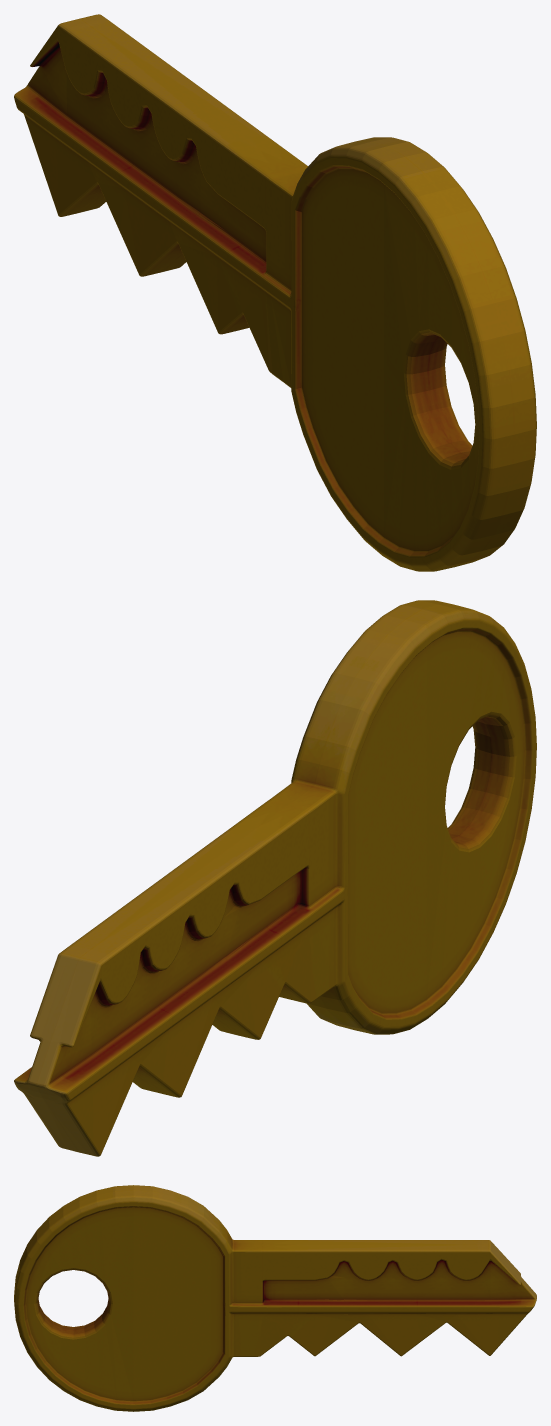
File: Key.glb
The picture shows the model from 3 angles, top to bottom: view 1: azimuth 30°, elevation 25°; view 2: azimuth 150°, elevation 25°; view 3: azimuth 270°, elevation 25°; orthographic projection. The views are drawn at different scales.
Visible parts, largest first — view 1: Mesh_0; view 2: Mesh_0; view 3: Mesh_0.
Part boxes in pixels (bbox=[...]): Mesh_0: bbox=[14, 14, 536, 571]; Mesh_0: bbox=[14, 600, 536, 1156]; Mesh_0: bbox=[14, 1185, 536, 1411].
Size of the model in its own units: 0.00564 by 0.0397 by 0.0871.
1 material, 1 textured.
